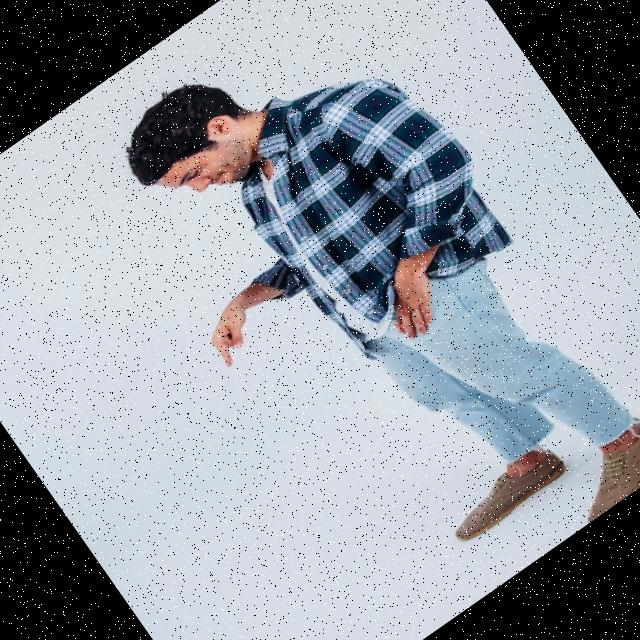Person: (80, 0, 640, 640)
